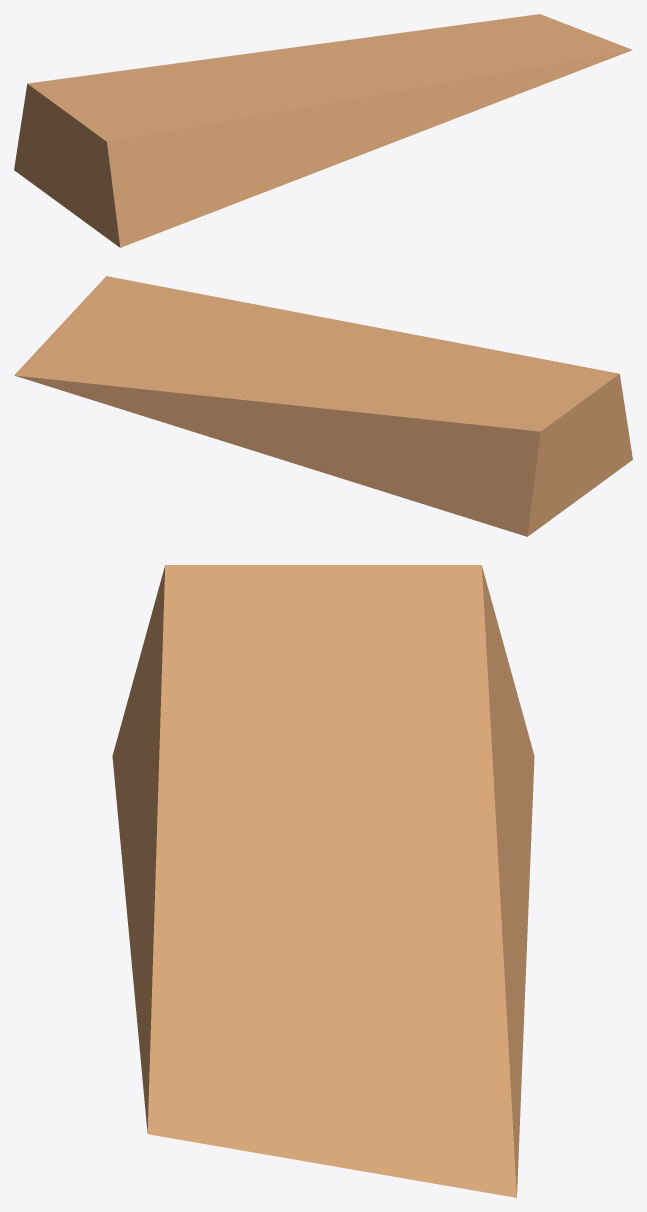
The model's file is 16-Crafting_lingote_metal.glb.
The picture shows the model from 3 angles, top to bottom: view 1: azimuth 30°, elevation 25°; view 2: azimuth 150°, elevation 25°; view 3: azimuth 270°, elevation 25°; orthographic projection. The views are drawn at different scales.
Visible parts, largest first — view 1: SM_Lingote_M_Lingote_Cobre; view 2: SM_Lingote_M_Lingote_Cobre; view 3: SM_Lingote_M_Lingote_Cobre.
Part boxes in pixels (bbox=[...]): SM_Lingote_M_Lingote_Cobre: bbox=[14, 14, 632, 247]; SM_Lingote_M_Lingote_Cobre: bbox=[14, 276, 632, 536]; SM_Lingote_M_Lingote_Cobre: bbox=[112, 565, 534, 1197].
Bounding box in the file's own units: 0.34 × 0.06 × 0.12.
